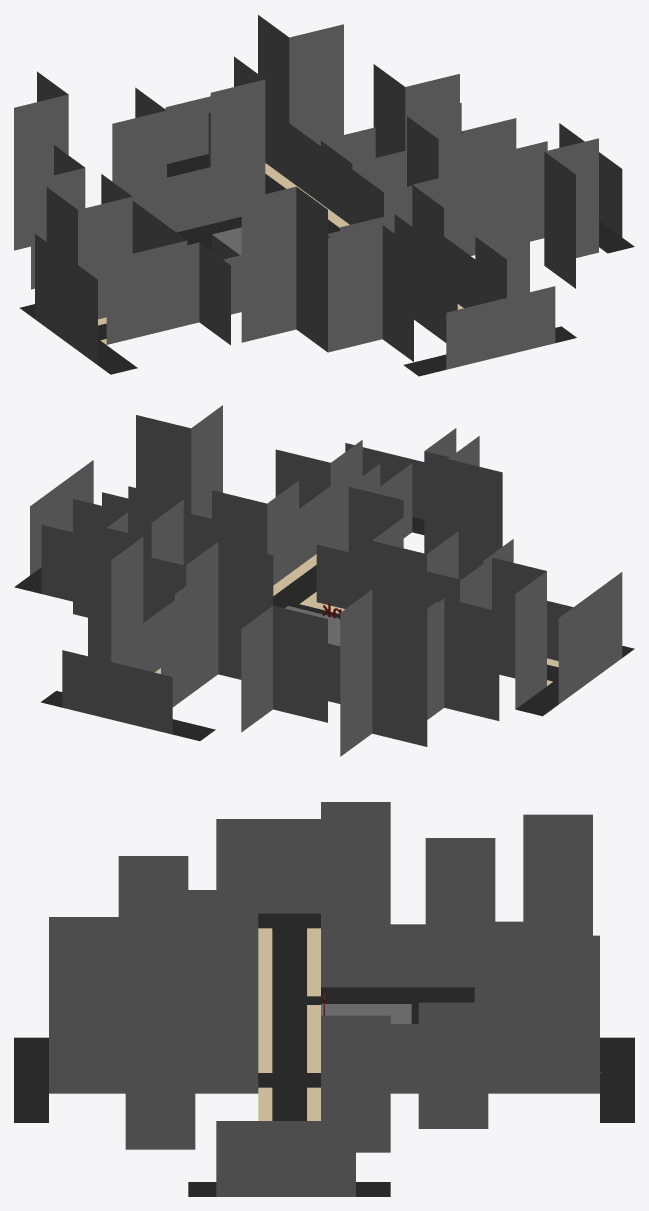
Rendered from Level.fbx.
The picture shows the model from 3 angles, top to bottom: view 1: azimuth 30°, elevation 25°; view 2: azimuth 150°, elevation 25°; view 3: azimuth 270°, elevation 25°; orthographic projection. The views are drawn at different scales.
Visible parts, largest first — view 1: Cityscape, Road, ParkingLot, Bank_Building, Sidewalk; view 2: Cityscape, Road, Sidewalk, Bank_Building; view 3: Cityscape, Road, Sidewalk, ParkingLot, Bank_Building.
Part boxes in pixels (x1,y1,x2,y2): Cityscape: (14,15,622,369); Road: (19,154,634,376); ParkingLot: (177,216,241,251); Bank_Building: (212,227,241,259); Sidewalk: (98,163,463,344); Cityscape: (30,405,622,756); Road: (14,517,634,741); Sidewalk: (155,554,558,685); Bank_Building: (285,606,340,646); Cityscape: (49,802,599,1196); Road: (14,913,634,1196); Sidewalk: (258,928,600,1120); ParkingLot: (307,987,474,1023); Bank_Building: (321,1004,411,1023).
Size of the model in its own units: 9600 by 2500 by 8900.
